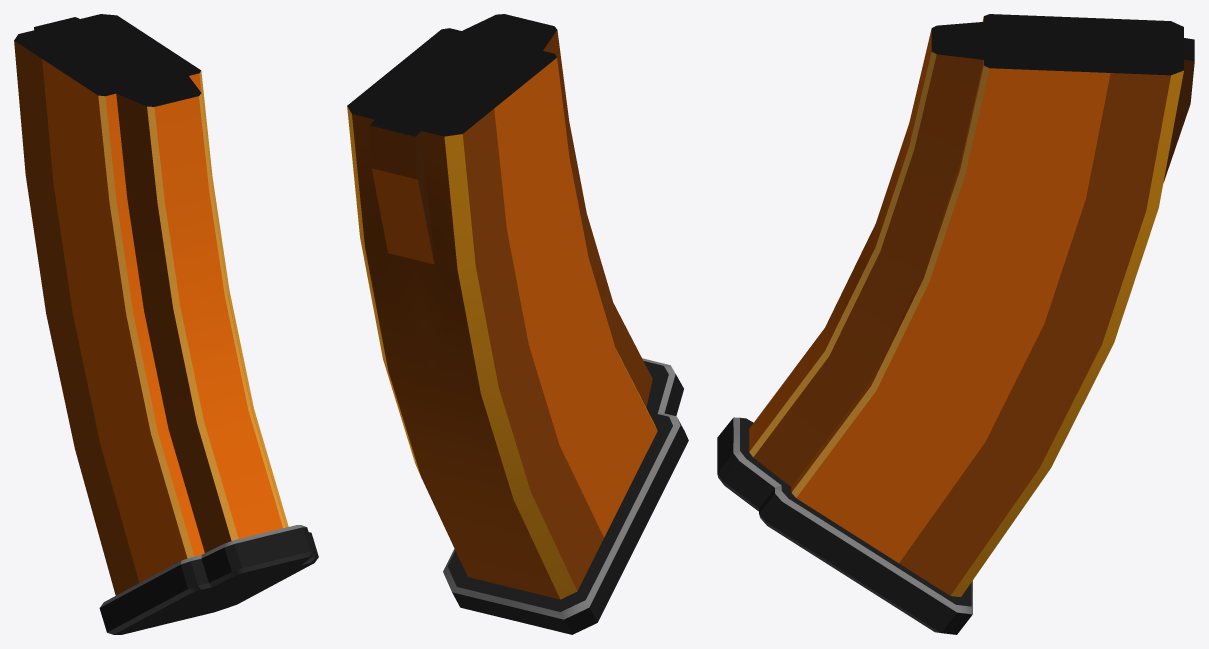
File: AK74Magazine.fbx
The picture shows the model from 3 angles, left to right: view 1: azimuth 30°, elevation 25°; view 2: azimuth 150°, elevation 25°; view 3: azimuth 270°, elevation 25°; orthographic projection. The views are drawn at different scales.
Visible parts, largest first — view 1: AK74Magazine; view 2: AK74Magazine; view 3: AK74Magazine.
Boxes of the visible parts, x1,y1,x2,y2 form: AK74Magazine: (14, 14, 318, 634); AK74Magazine: (347, 14, 688, 634); AK74Magazine: (717, 14, 1194, 634).
Size of the model in its own units: 7.35 by 28.38 by 21.56.
